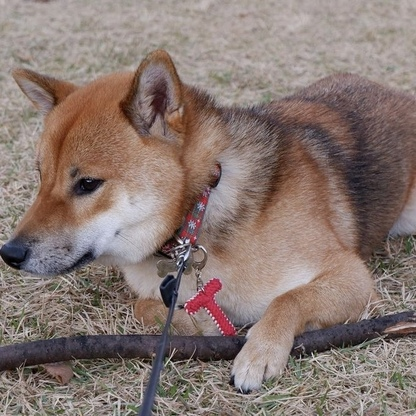shiba: (1, 46, 416, 395)
